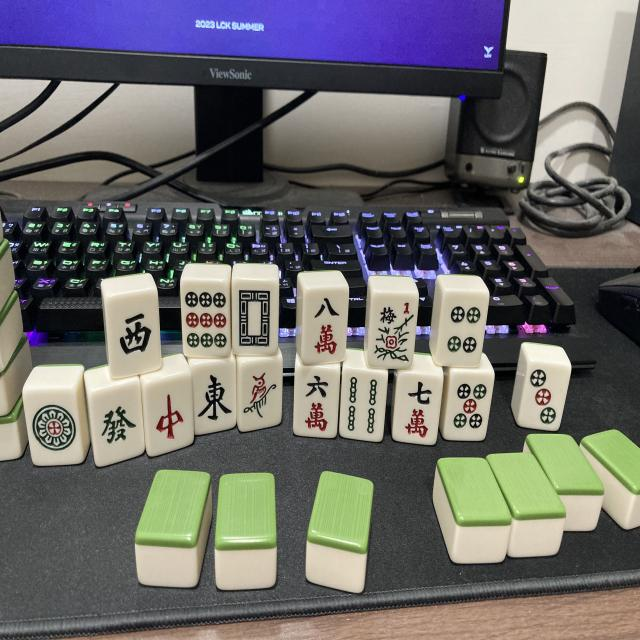1B: (237, 358, 280, 429)
1D: (23, 390, 85, 466)
1F: (371, 296, 417, 369)
3D: (516, 363, 570, 431)
4B: (340, 372, 387, 443)
4D: (437, 292, 487, 366)
5D: (442, 374, 493, 443)
6C: (295, 368, 340, 438)
7C: (394, 374, 444, 444)
8C: (303, 290, 349, 365)
9D: (183, 282, 233, 359)
EW: (192, 361, 238, 435)
GD: (89, 381, 147, 466)
RD: (144, 378, 195, 458)
WD: (232, 282, 277, 358)
WW: (108, 295, 162, 380)
